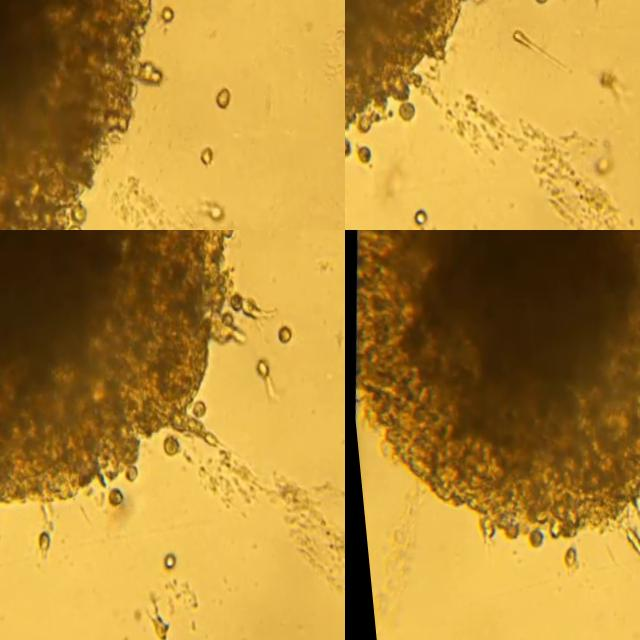cell: (504, 35, 554, 77), (617, 534, 640, 573), (135, 615, 155, 640), (388, 107, 406, 128), (194, 209, 215, 226), (207, 95, 225, 114), (154, 439, 170, 460), (182, 405, 198, 423), (347, 149, 361, 168), (249, 363, 261, 385), (270, 331, 285, 348), (99, 490, 113, 508), (190, 154, 205, 170), (553, 552, 566, 570), (403, 212, 417, 228), (158, 10, 169, 27), (29, 533, 38, 553), (152, 559, 164, 572), (527, 0, 541, 8)
tumor_mass: (350, 230, 640, 551)
